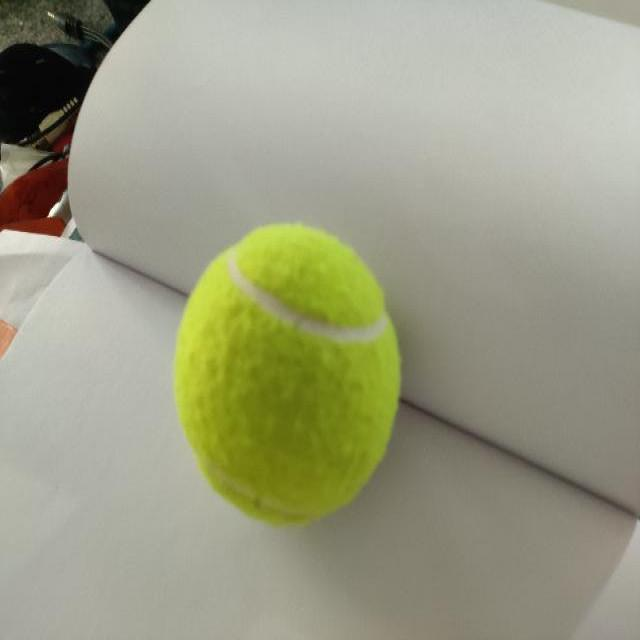tennis-ball: (172, 220, 403, 530)
